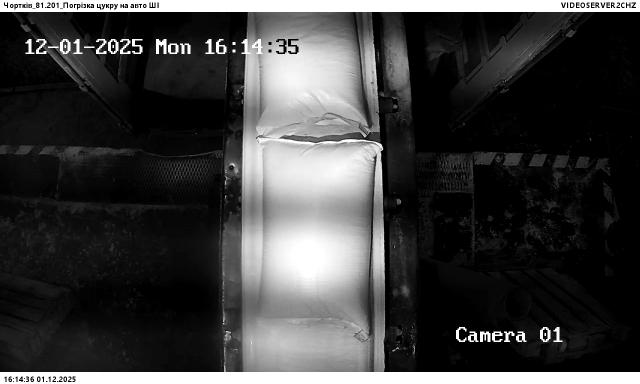bag: (255, 136, 382, 342), (252, 12, 373, 139)
